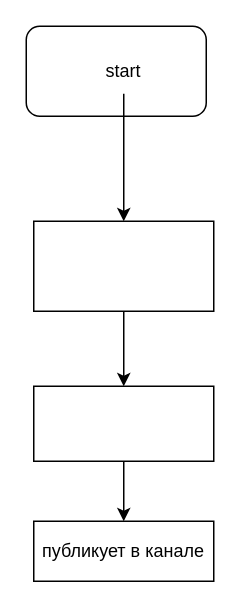
Some shapes in this 240 by 608 pixel diagram are drawn without their labels. Here are the shapes that lost their labels. From the top down, the box of each, then its label:
(32, 220, 214, 311): Раз в 2 дня
(32, 385, 214, 461): загружает с сайта рецепт
